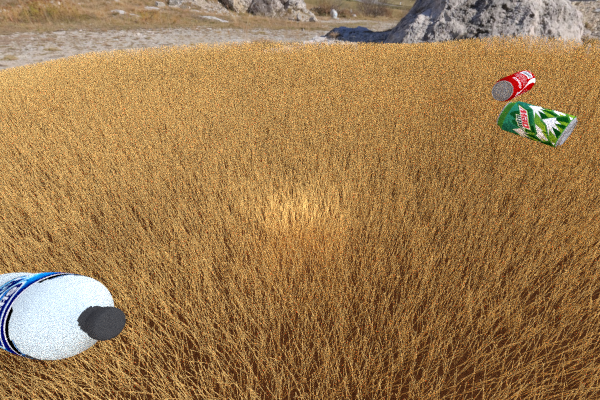bottle: (0, 272, 125, 360)
can: (496, 101, 577, 147), (491, 70, 535, 101)
